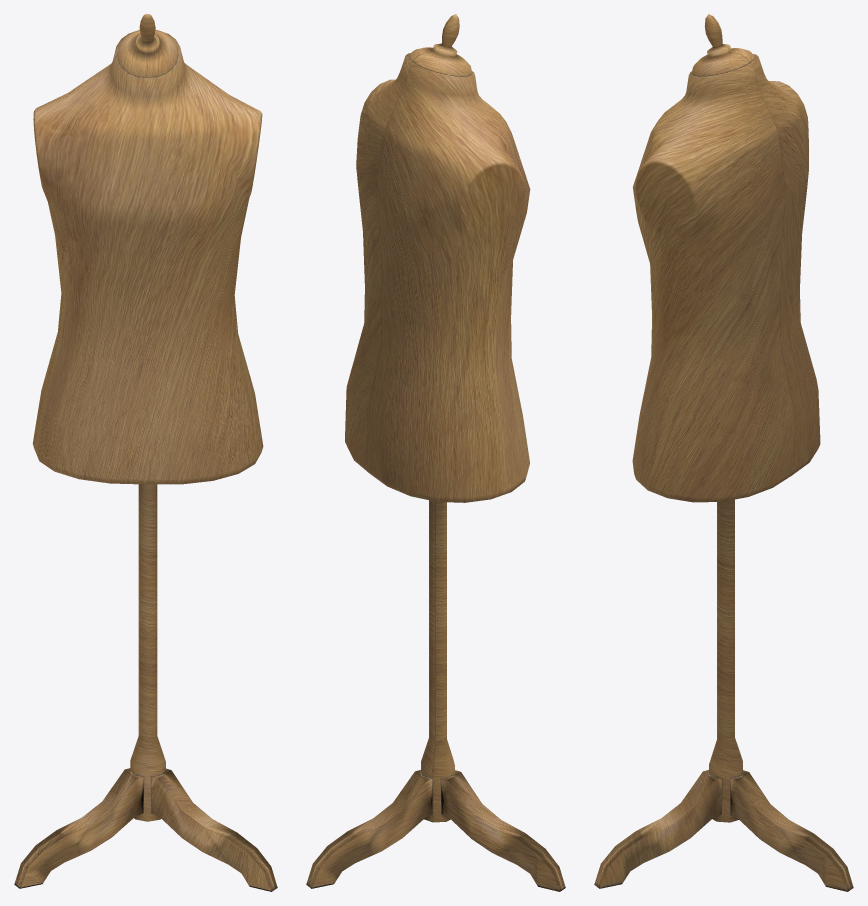
File: Manocanh (4.2, 6.1, 0.3).glb
3 renders of one model, left to right at view 1: azimuth 30°, elevation 25°; view 2: azimuth 150°, elevation 25°; view 3: azimuth 270°, elevation 25°, orthographic.
Parts seen in each view (by area): view 1: Dress.009; view 2: Dress.009; view 3: Dress.009.
Part boxes in pixels (<box>): Dress.009: <box>14,14,277,891</box>; Dress.009: <box>306,14,565,891</box>; Dress.009: <box>594,14,853,891</box>.
Bounding box in the file's own units: 0.5071 × 1.85 × 0.5184.
Materials: 1 (1 with a texture image).
